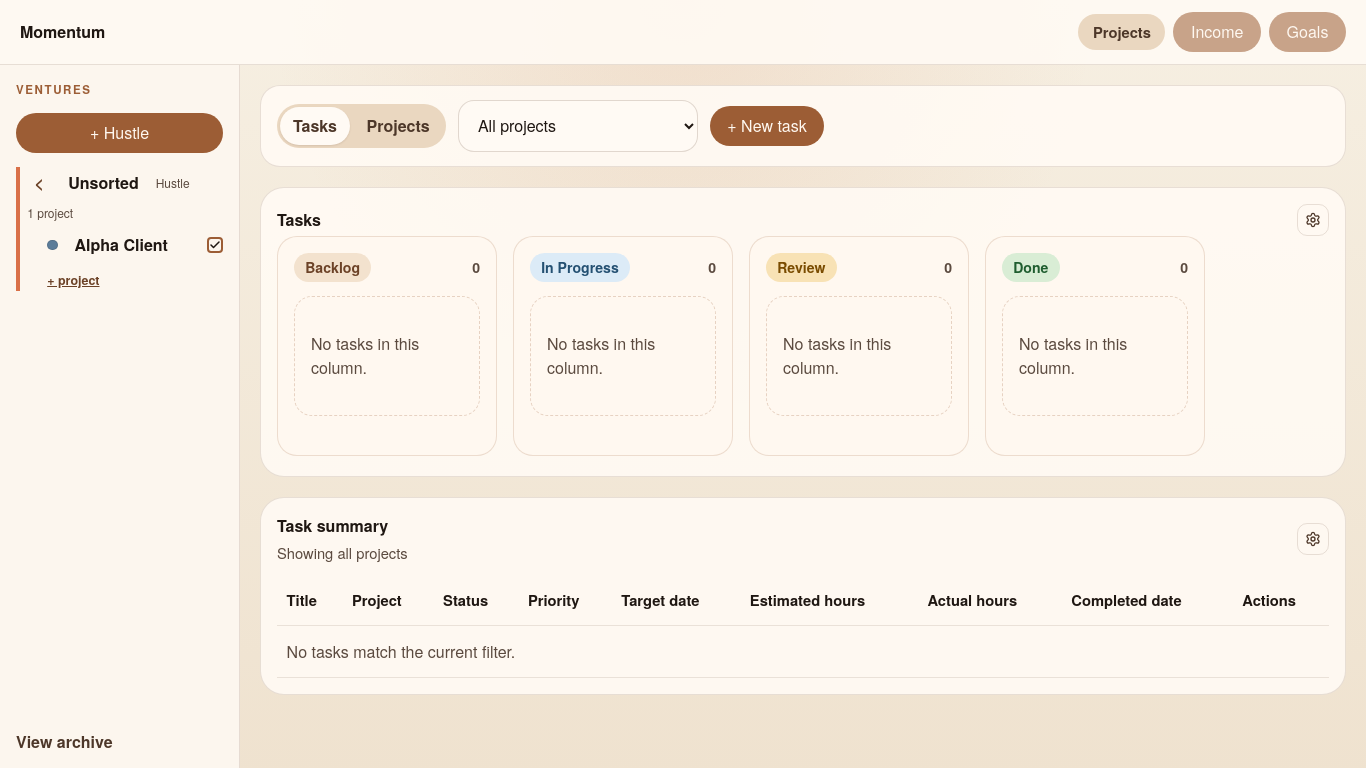
Scenario: Ticket 1b-4 Projects page polish › archive dialog (projects tab) › exposes Archived ventures and Archived projects tabs (1.6-8) with ventures empty state
The image size is (1366, 768).
Click the button "View archive" at (120, 742), box x1=16 y1=725 x2=223 y2=760
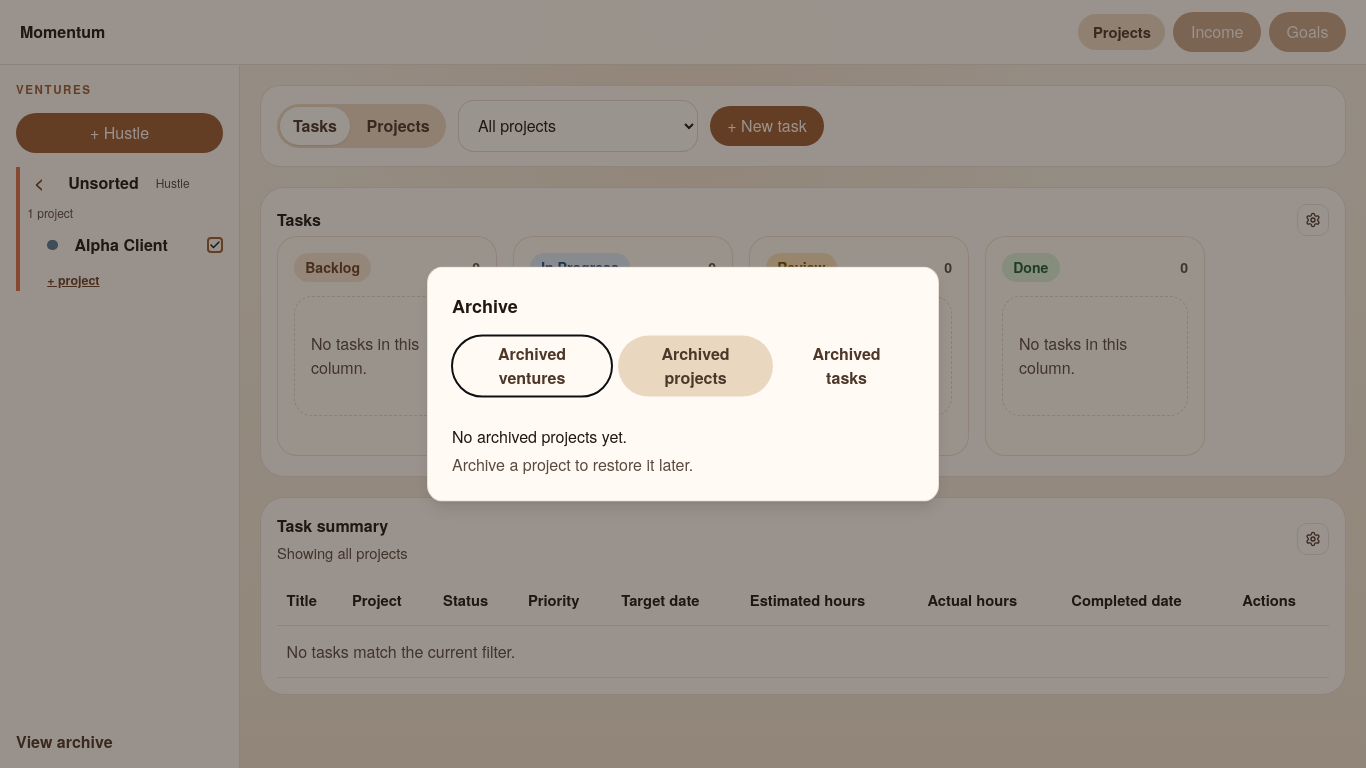
expect the tab "Archived ventures" is shown: met
expect the tab "Archived projects" is shown: met, box x1=618 y1=336 x2=773 y2=396
Click the tab "Archived ventures" at (532, 366), box x1=452 y1=336 x2=612 y2=396
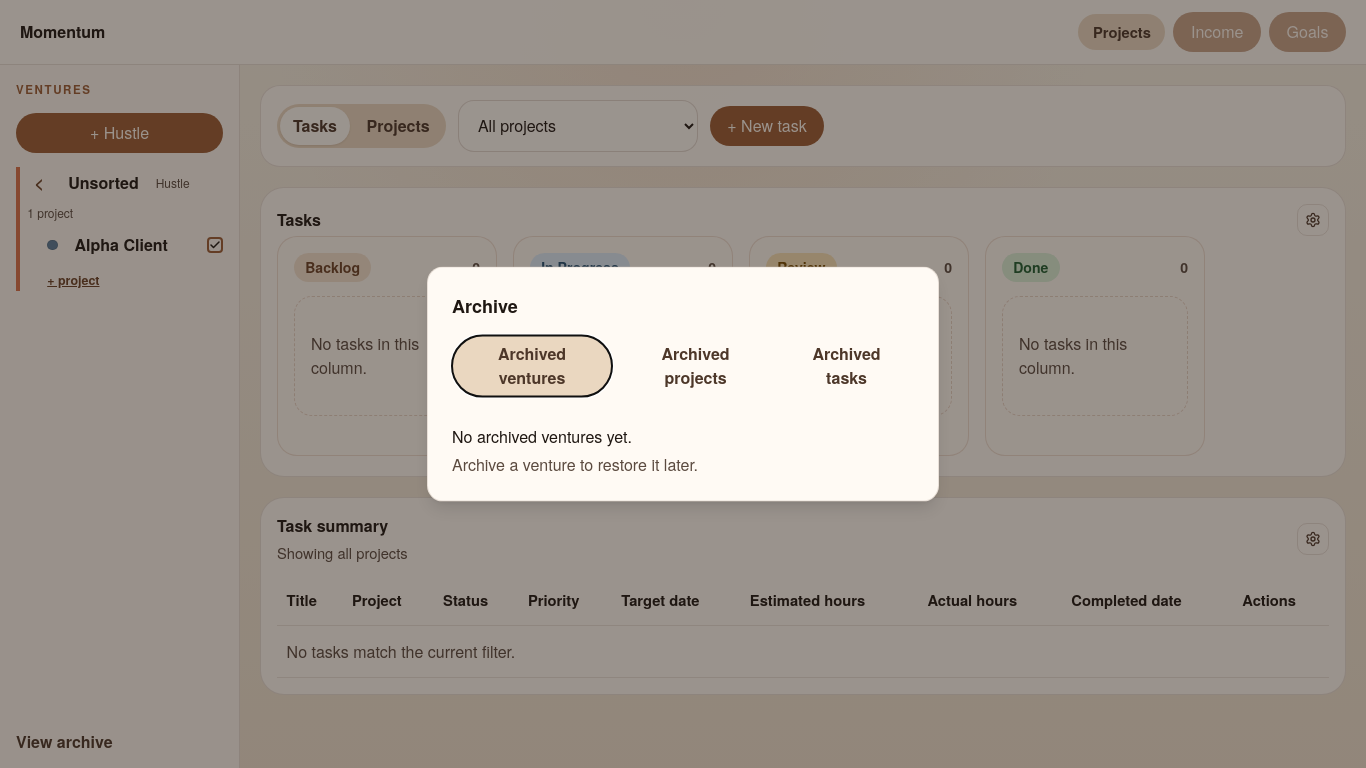
expect the text "No archived ventures yet." is shown: met, box x1=452 y1=424 x2=632 y2=447
